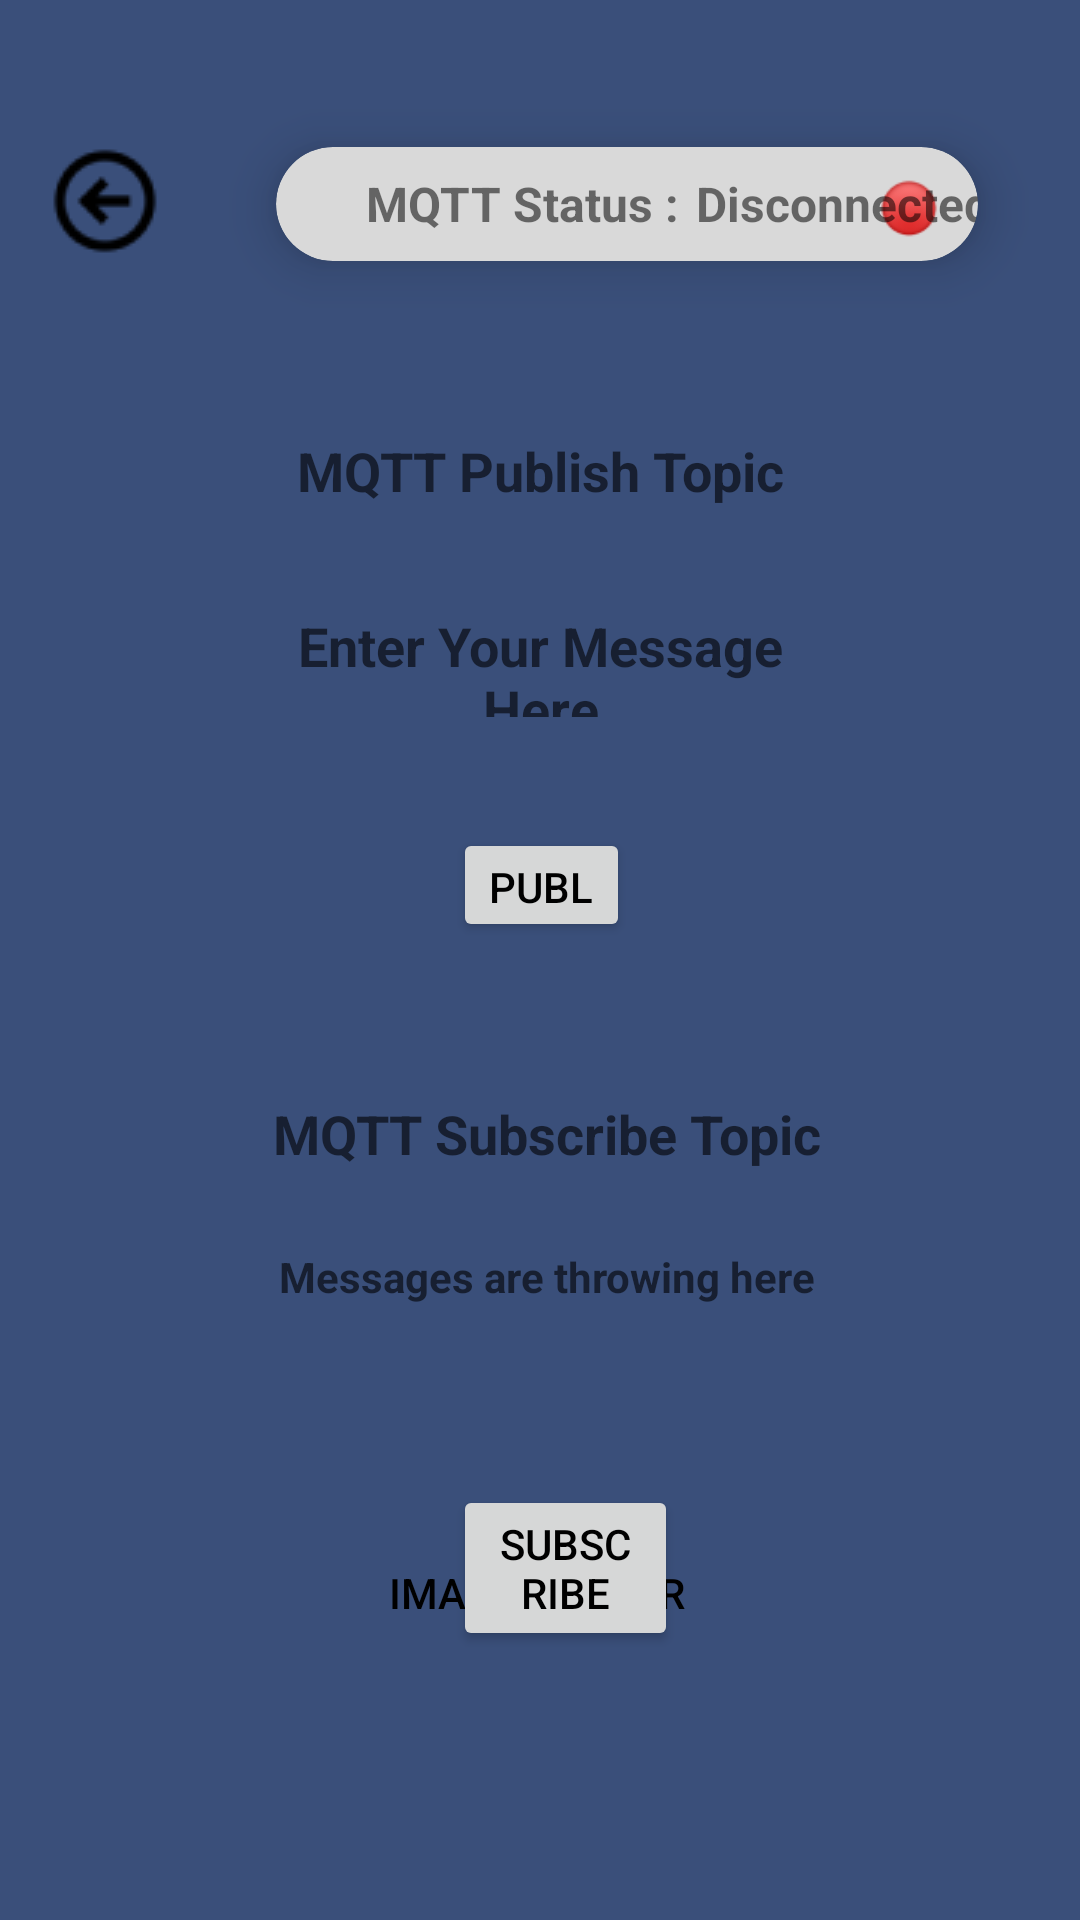

Named icons in this screenshot (1080w x 1920h) and their bounding boxes, [x1, y1, x2, y2]:
go back: [53, 149, 157, 252]
